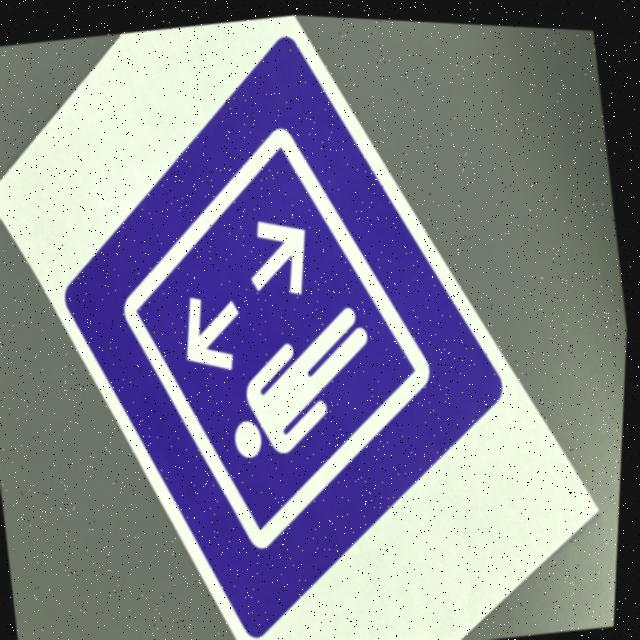elevator: (58, 38, 502, 636)
